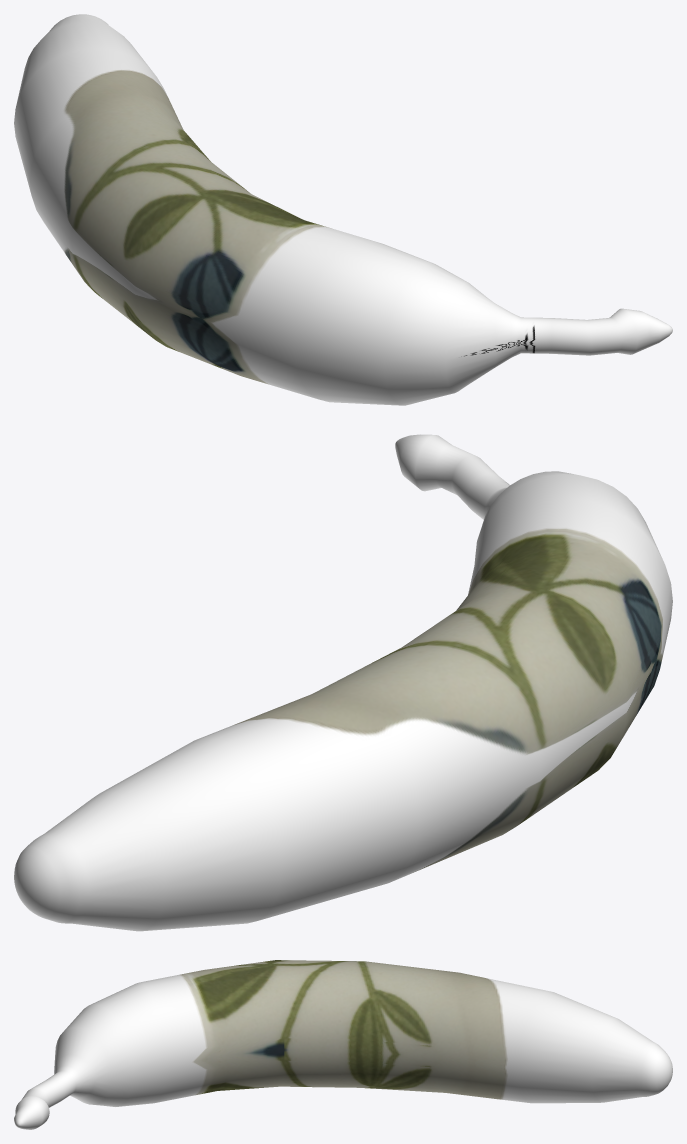
The picture shows the model from 3 angles, top to bottom: view 1: azimuth 30°, elevation 25°; view 2: azimuth 150°, elevation 25°; view 3: azimuth 270°, elevation 25°; orthographic projection. The views are drawn at different scales.
Size of the model in its own units: 0.4615 by 0.1925 by 1.
